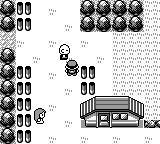main: (64, 61, 79, 76)
no-caminable: (80, 1, 143, 32), (81, 96, 143, 127), (0, 48, 15, 143), (17, 65, 31, 143), (0, 1, 16, 32), (81, 65, 95, 95), (17, 2, 31, 31)
npc: (34, 108, 46, 124), (58, 45, 70, 59)
puerta: (98, 114, 110, 127)
salto: (144, 119, 159, 129)
